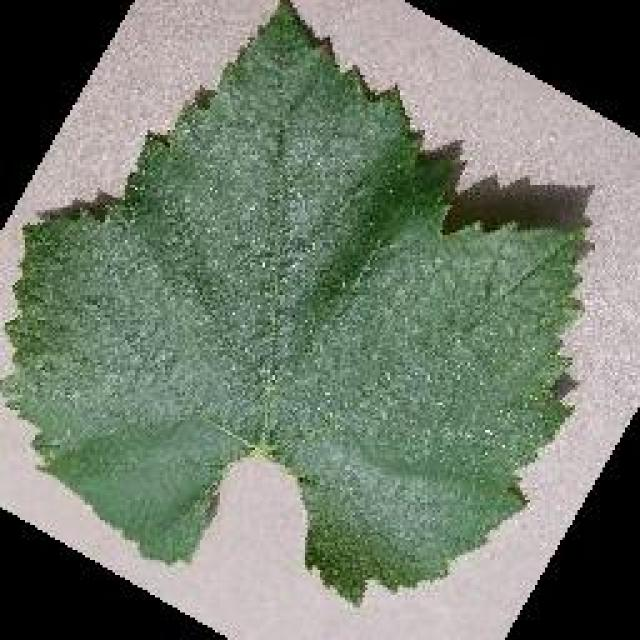Grape___healthy: (0, 0, 597, 611)
